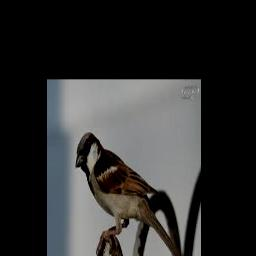Sparrow: (76, 133, 183, 256)
